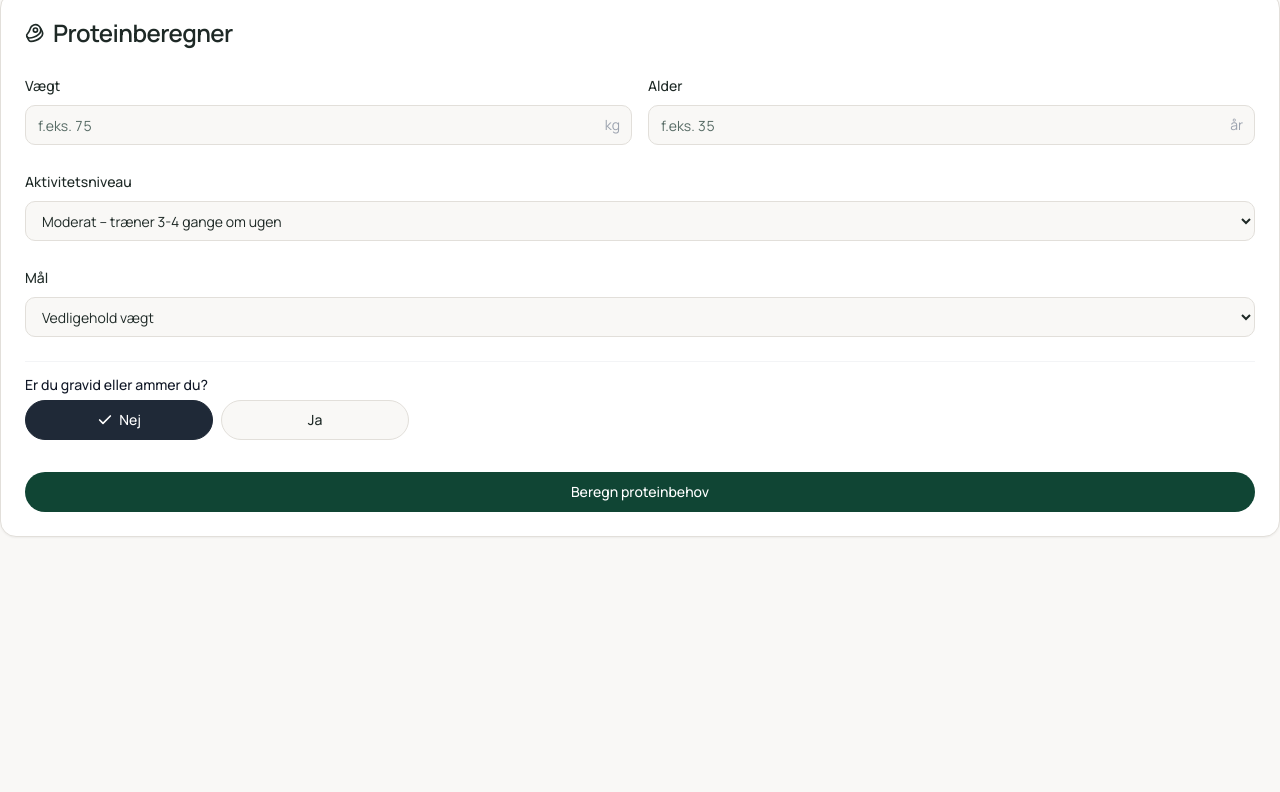
ProteinCalculator › lets the visitor change the number of meals in the result
Check: the dropdown labelled "Mål" shows "Vedligehold vægt", box [25,297,1255,337]
Type "80" into the field labelled "Vægt" at {"x": 328, "y": 125}, box [25,105,632,145]
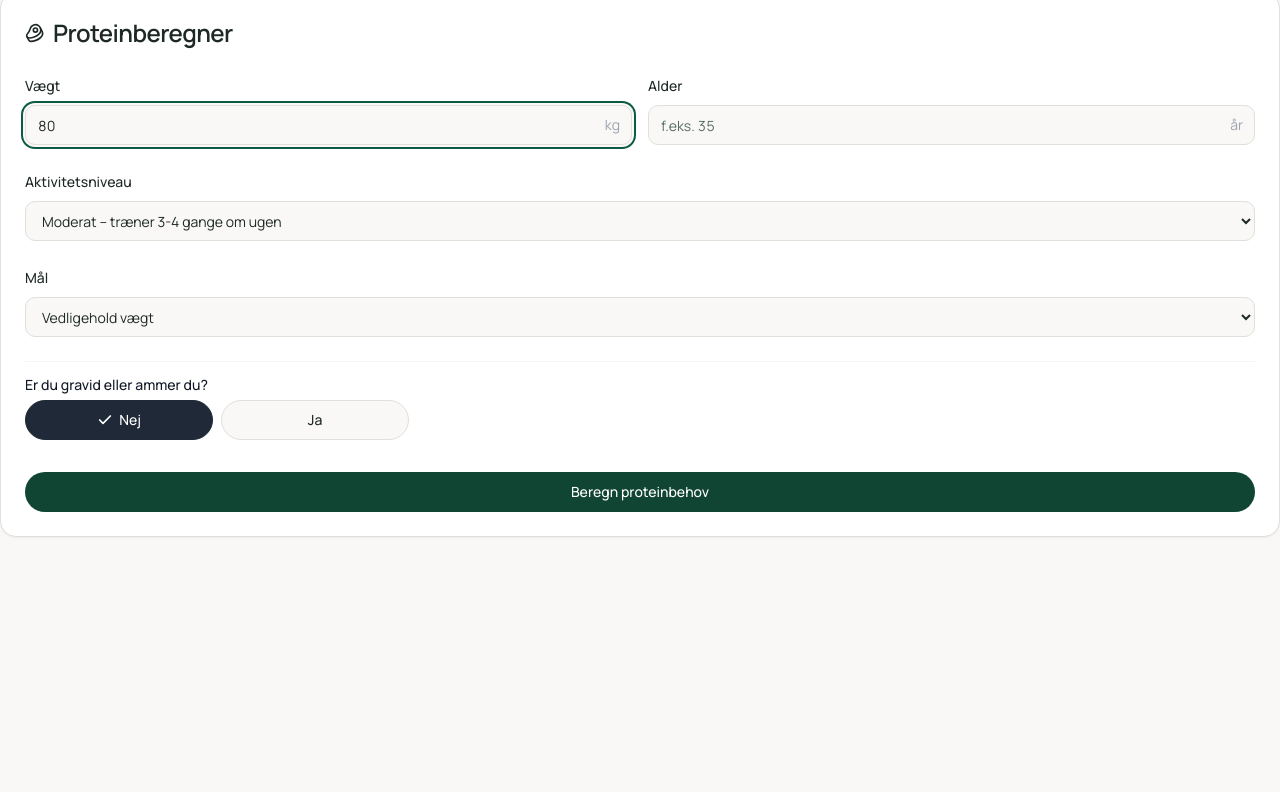
Type "35" into the field labelled "Alder" at {"x": 952, "y": 125}, box [648,105,1255,145]
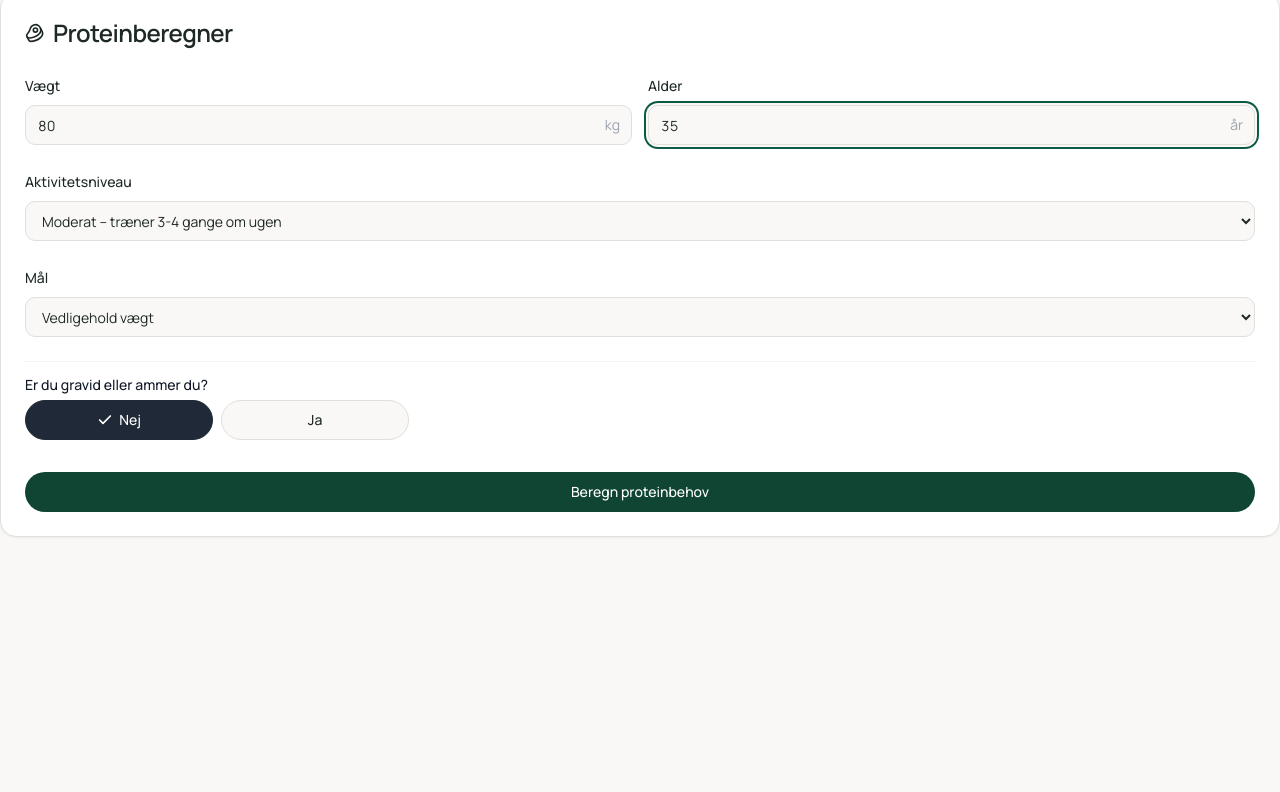
Select "Muskelopbygning" in the dropdown labelled "Mål" at {"x": 640, "y": 317}, box [25,297,1255,337]
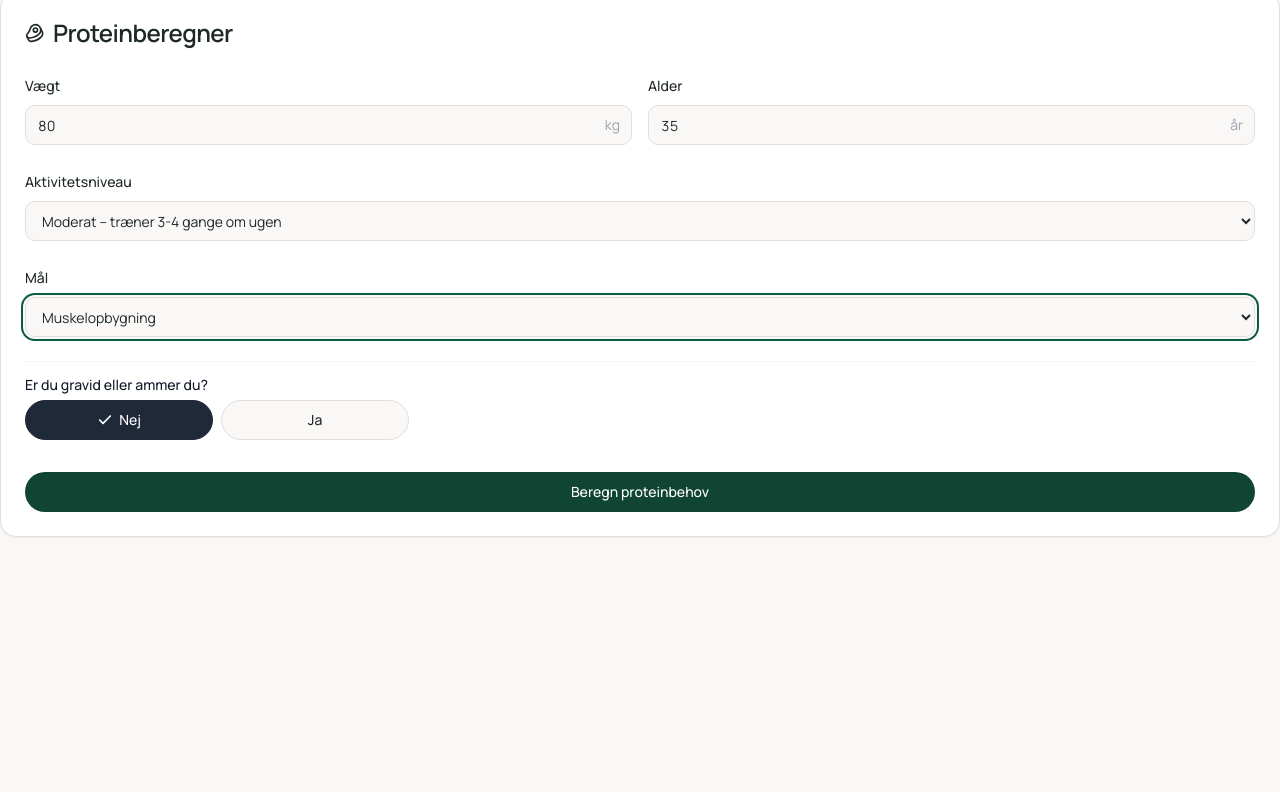
Select "Hård træning – 5 gange om ugen eller mere" in the dropdown labelled "Aktivitetsniveau" at {"x": 640, "y": 221}, box [25,201,1255,241]
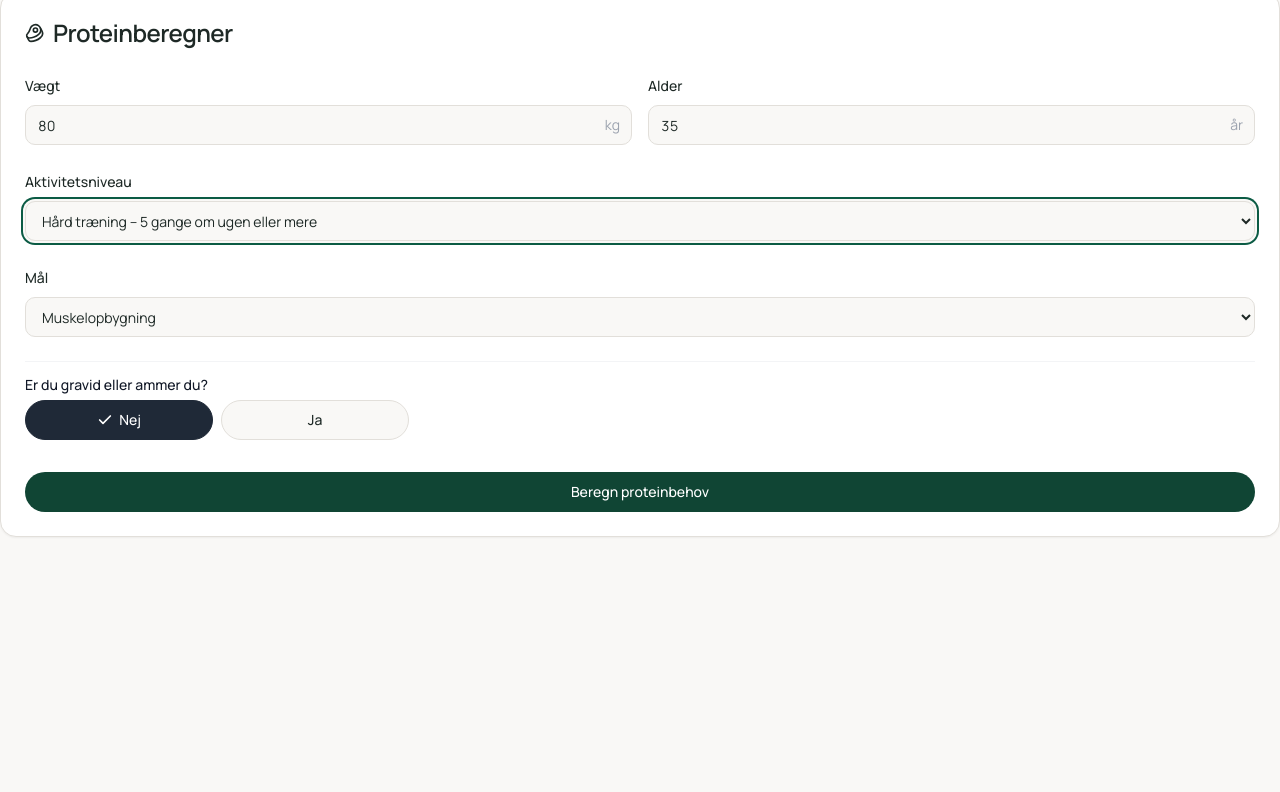
Click the button "Beregn proteinbehov" at {"x": 640, "y": 492}, box [25,472,1255,512]
(page scrolled)
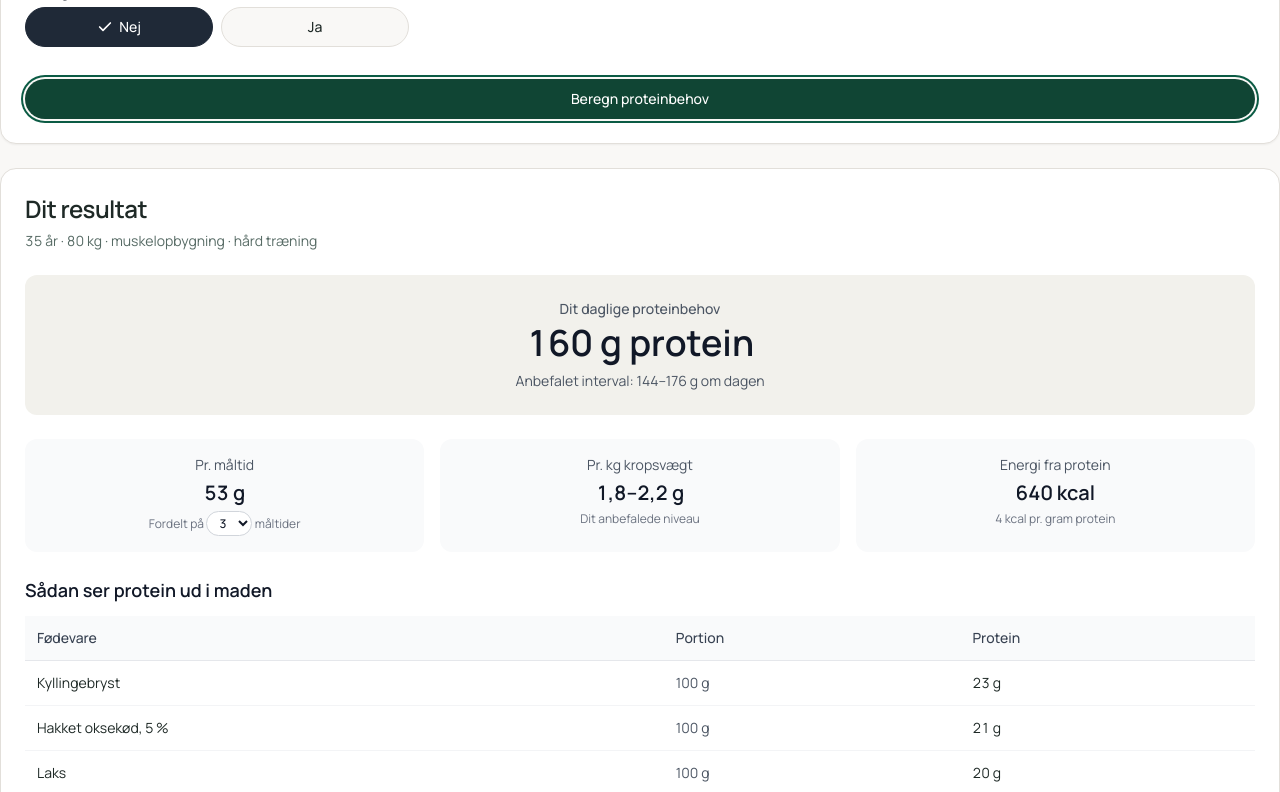
Check: the dropdown named "Måltider om dagen" shows "3"
Check: the text "53 g" is shown, box [204,479,245,506]
Select "5" in the dropdown named "Måltider om dagen" at {"x": 229, "y": 524}, box [206,511,252,536]
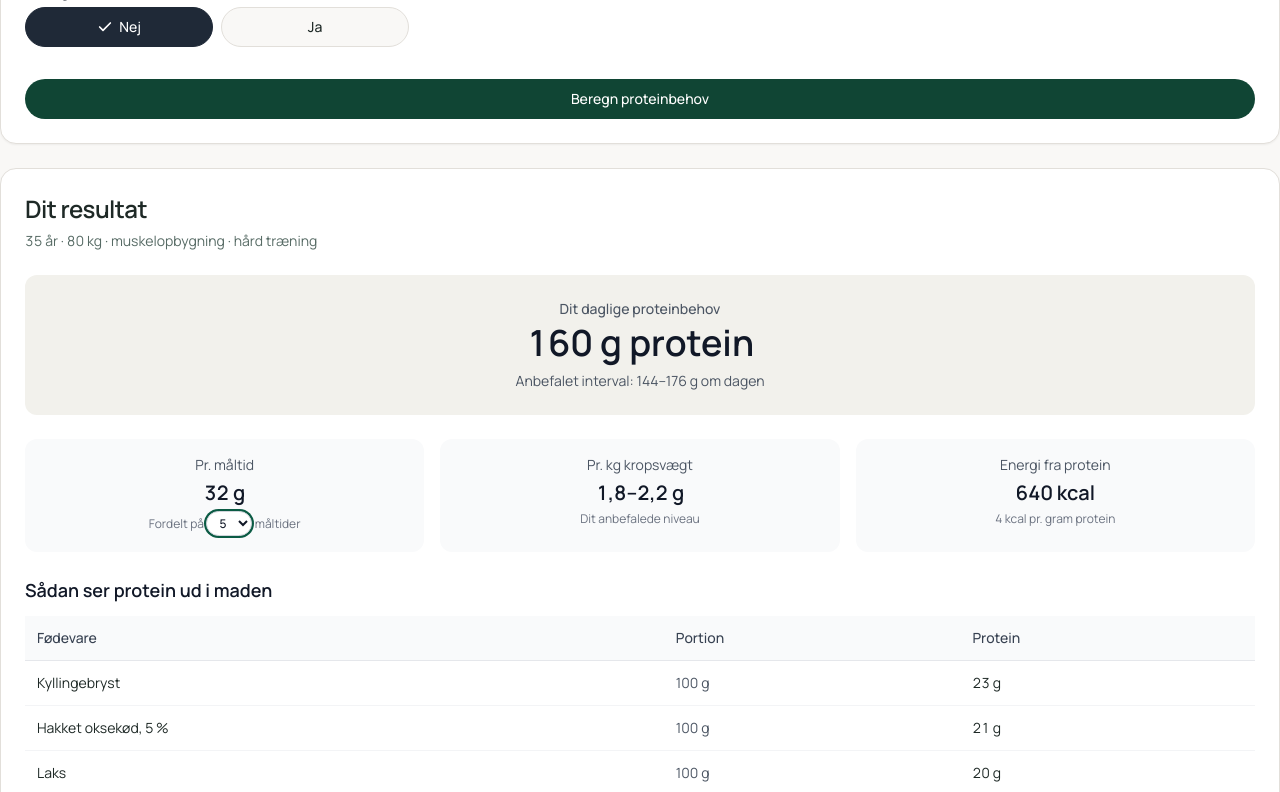
Check: the text "32 g" is shown, box [204,479,245,506]
